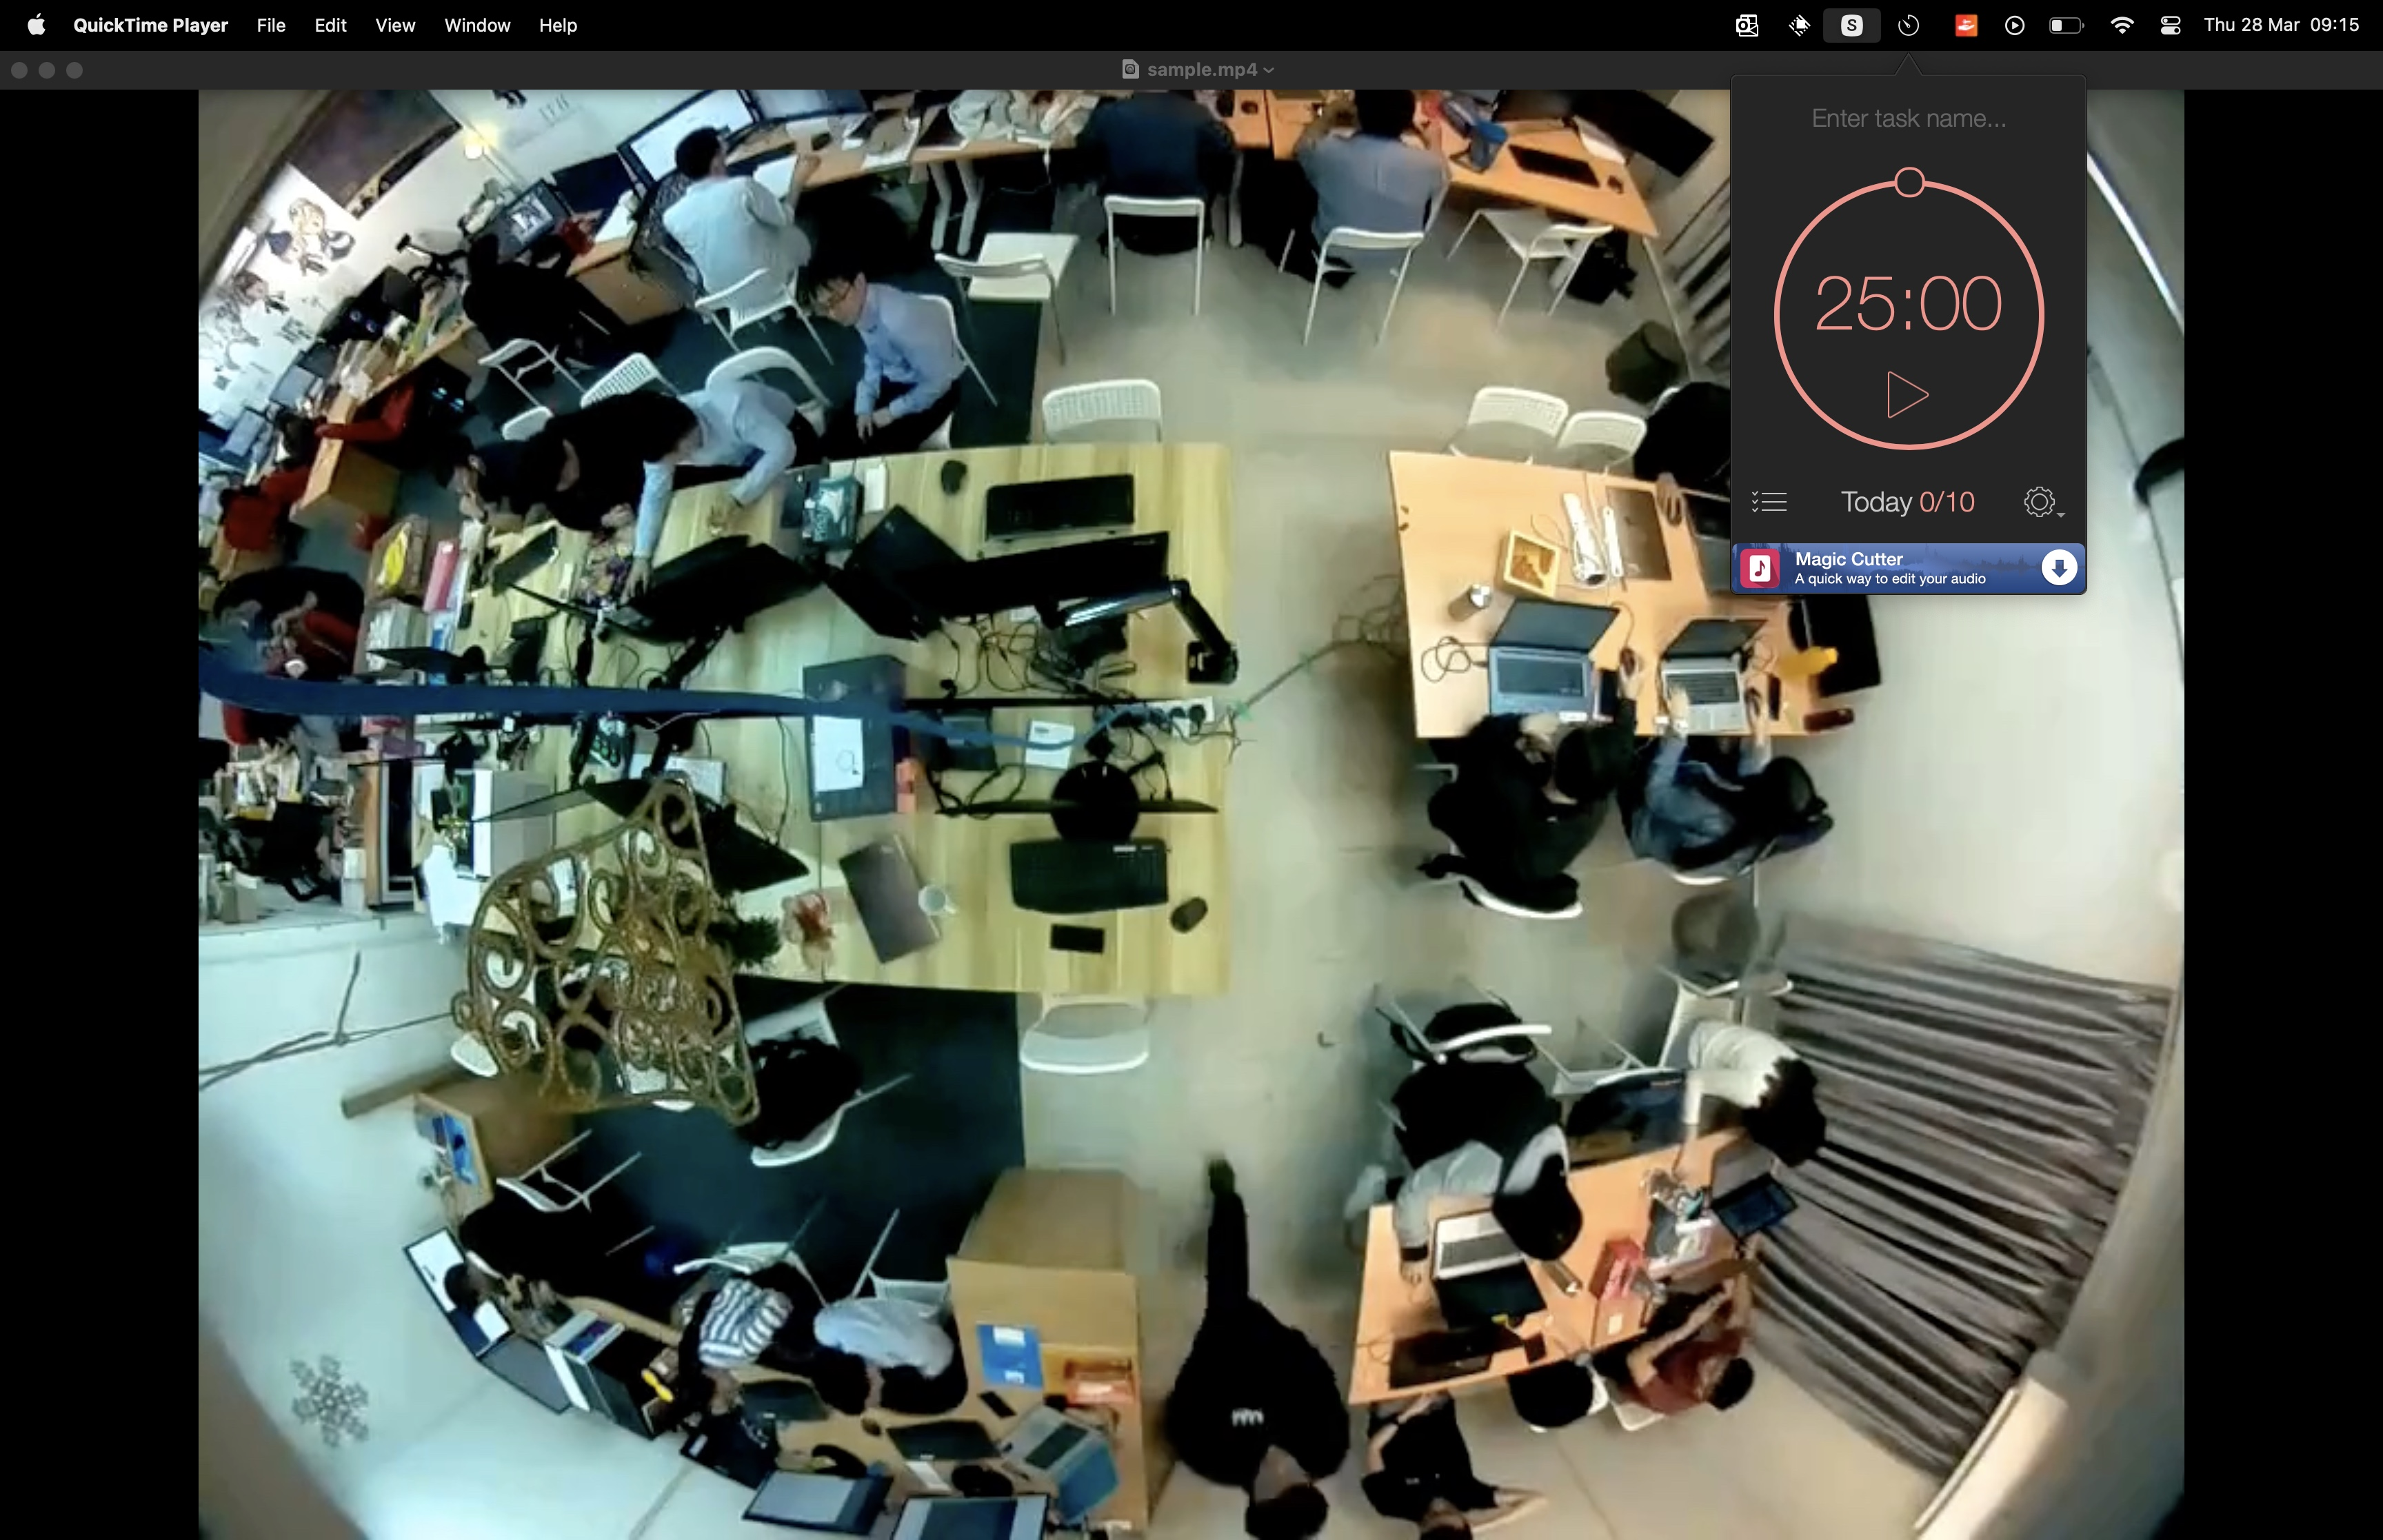Staff: (1143, 1168, 1351, 1540)
